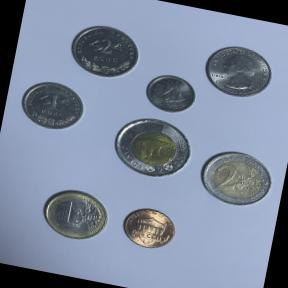1 Euro: (36, 181, 115, 248)
2 Euro: (192, 142, 280, 215)
Canda-10cent-: (138, 68, 201, 119)
Canda-2Dollar-: (105, 109, 199, 186)
Croatia-2Kune-: (60, 15, 148, 86)
US-1cent-: (116, 201, 181, 255)
US-25cent-: (197, 38, 279, 105)
